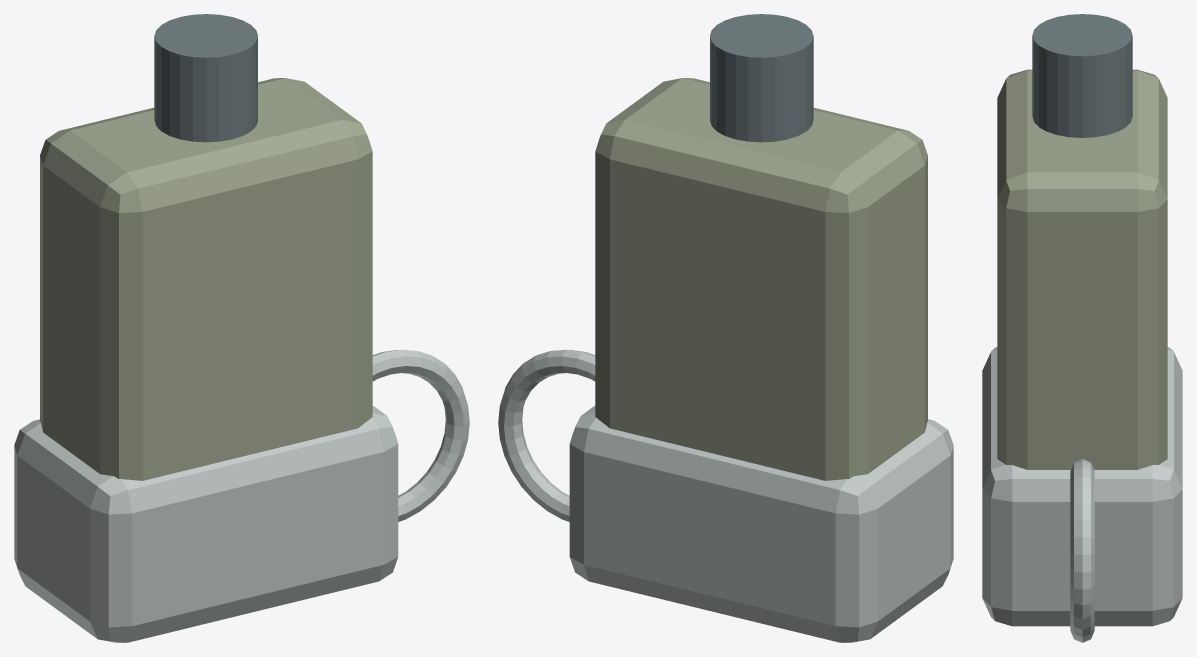
3 renders of one model, left to right at view 1: azimuth 30°, elevation 25°; view 2: azimuth 150°, elevation 25°; view 3: azimuth 270°, elevation 25°, orthographic. The views are drawn at different scales.
Visible parts, largest first — view 1: canteen, nesting cup, neck, cup handle; view 2: canteen, nesting cup, neck, cup handle; view 3: canteen, nesting cup, neck, cup handle.
Part boxes in pixels (x1=…): canteen: x1=40, y1=78, x2=372, y2=480; nesting cup: x1=14, y1=405, x2=398, y2=642; neck: x1=154, y1=14, x2=257, y2=142; cup handle: x1=372, y1=349, x2=469, y2=521; canteen: x1=595, y1=78, x2=927, y2=480; nesting cup: x1=569, y1=405, x2=953, y2=642; neck: x1=710, y1=14, x2=813, y2=142; cup handle: x1=498, y1=349, x2=595, y2=521; canteen: x1=997, y1=69, x2=1167, y2=469; nesting cup: x1=982, y1=347, x2=1182, y2=626; neck: x1=1032, y1=14, x2=1132, y2=137; cup handle: x1=1070, y1=459, x2=1094, y2=642.
Bounding box in the file's own units: 0.231 × 0.2925 × 0.1.
